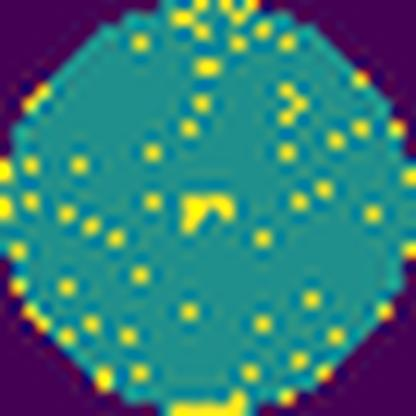Center: (172, 183, 239, 237)
